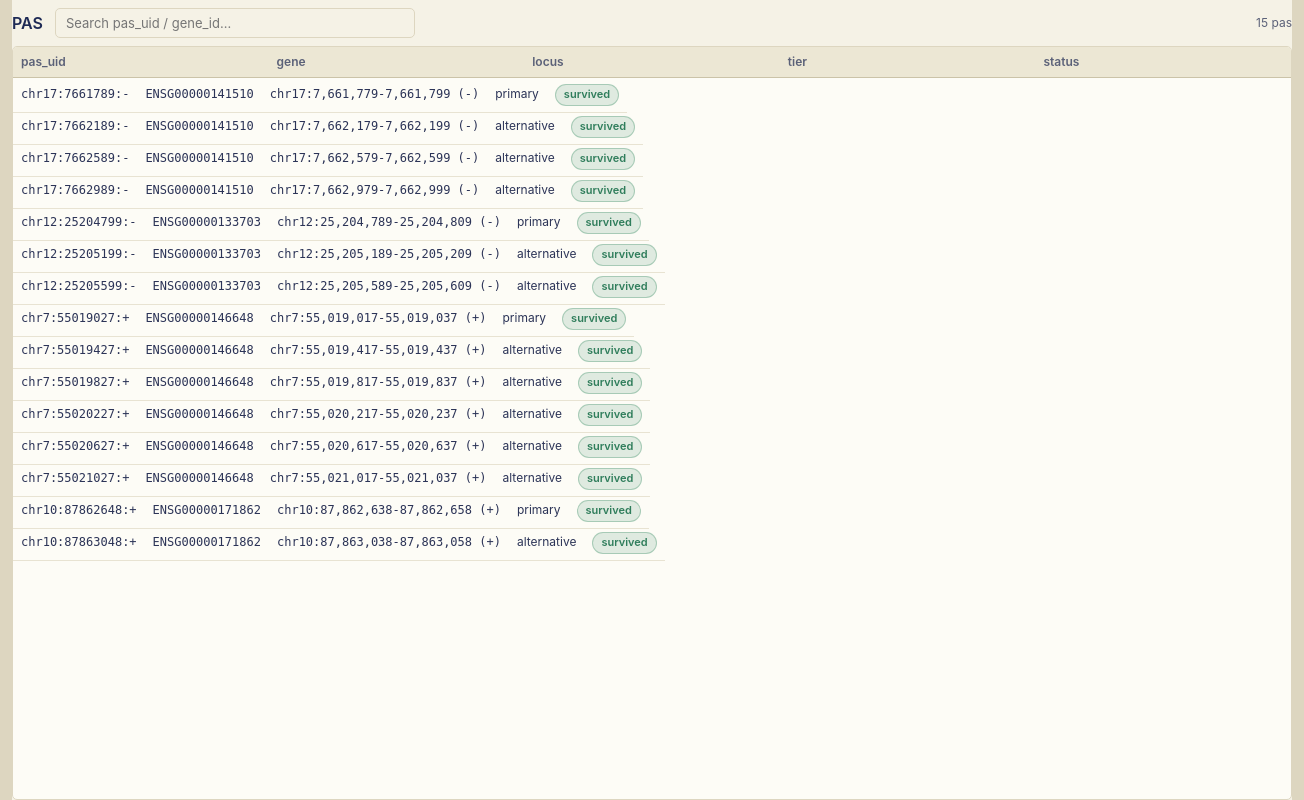
Test: PasBrowser › filters by gene_id substring
Expected: the text "15 pas" is shown, [1256,14,1292,32]
Type "ENSG00000171862" into the search field labelled "Search pas_uid / gene_id…" at (235, 23), box [55,8,415,38]
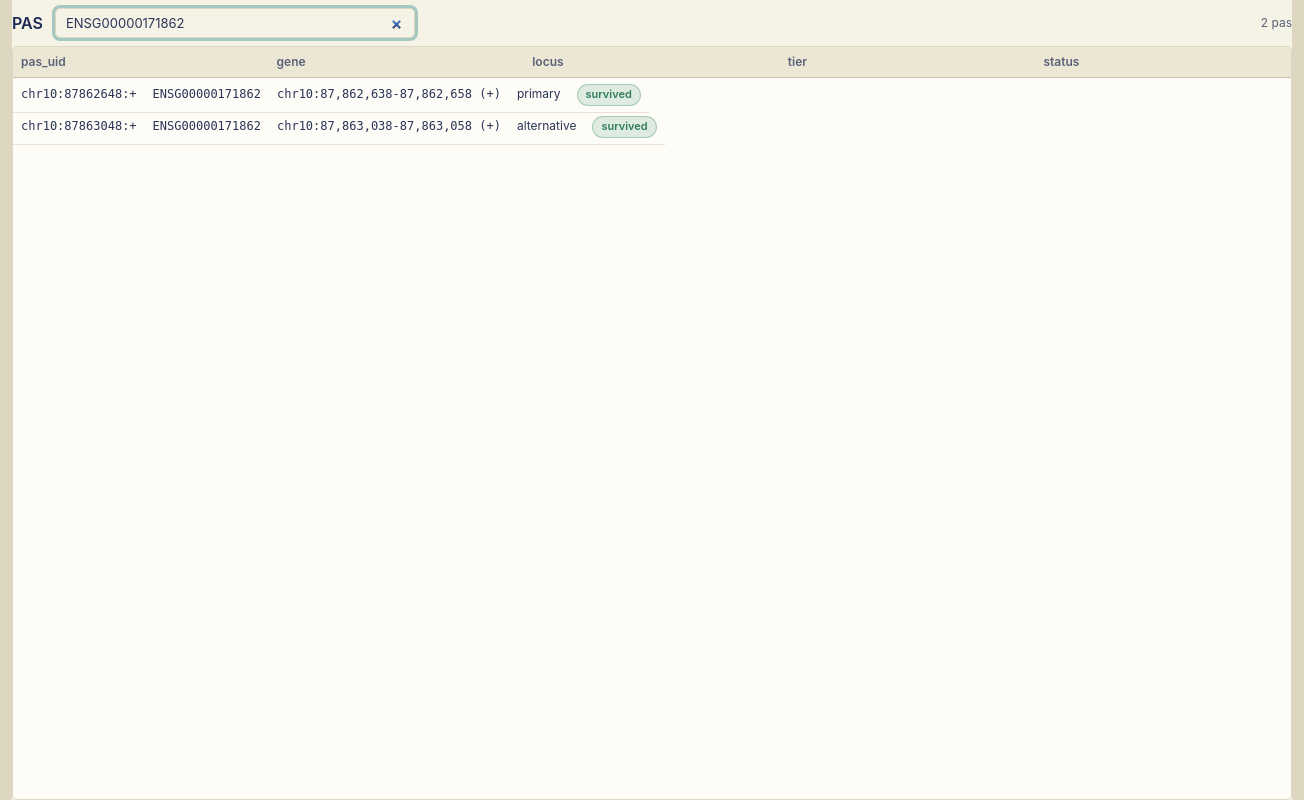
Expected: the text "2 pas" is shown, [1261,14,1292,32]
